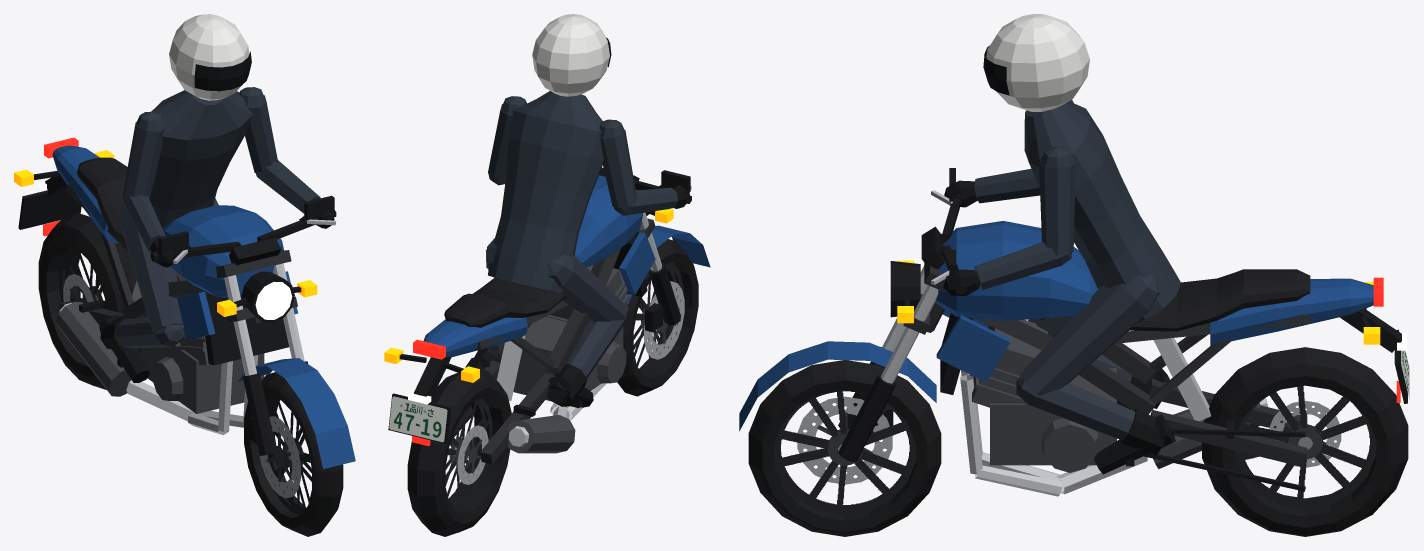
The model's file is motorbike.glb.
The picture shows the model from 3 angles, left to right: view 1: azimuth 30°, elevation 25°; view 2: azimuth 150°, elevation 25°; view 3: azimuth 270°, elevation 25°; orthographic projection. The views are drawn at different scales.
Parts seen in each view (by area): view 1: Body, Steer, Torso, WheelFront, WheelRear, Head, ThighR, ShinR, UpperArmR, UpperArmL, ForearmL, ForearmR; view 2: Body, Torso, WheelRear, WheelFront, Head, Steer, ShinR, ThighR, UpperArmR, UpperArmL, ForearmR, ShinL; view 3: Body, WheelRear, WheelFront, Torso, Steer, Head, ThighL, ShinL, UpperArmL, ForearmL, ForearmR.
Boxes of the visible parts, x1=… form: Body: x1=14, y1=137, x2=297, y2=435; Steer: x1=150, y1=195, x2=355, y2=469; Torso: x1=149, y1=90, x2=252, y2=228; WheelFront: x1=244, y1=372, x2=343, y2=536; WheelRear: x1=38, y1=213, x2=147, y2=389; Head: x1=169, y1=14, x2=251, y2=100; ThighR: x1=120, y1=205, x2=183, y2=332; ShinR: x1=99, y1=315, x2=184, y2=382; UpperArmR: x1=122, y1=111, x2=165, y2=199; UpperArmL: x1=239, y1=87, x2=277, y2=173; ForearmL: x1=256, y1=160, x2=334, y2=228; ForearmR: x1=123, y1=195, x2=175, y2=267; Body: x1=384, y1=175, x2=655, y2=464; Torso: x1=488, y1=91, x2=603, y2=292; WheelRear: x1=407, y1=367, x2=511, y2=536; WheelFront: x1=617, y1=239, x2=698, y2=396; Head: x1=532, y1=14, x2=611, y2=96; Steer: x1=599, y1=167, x2=710, y2=332; ShinR: x1=546, y1=308, x2=626, y2=407; ThighR: x1=548, y1=254, x2=625, y2=322; UpperArmR: x1=599, y1=119, x2=636, y2=208; UpperArmL: x1=488, y1=96, x2=526, y2=179; ForearmR: x1=614, y1=185, x2=689, y2=215; ShinL: x1=465, y1=324, x2=531, y2=369; Body: x1=926, y1=220, x2=1409, y2=496; WheelRear: x1=1202, y1=347, x2=1408, y2=536; WheelFront: x1=748, y1=360, x2=941, y2=536; Torso: x1=1024, y1=101, x2=1180, y2=321; Steer: x1=739, y1=168, x2=966, y2=462; Head: x1=983, y1=14, x2=1089, y2=111; ThighL: x1=1020, y1=275, x2=1160, y2=396; ShinL: x1=1016, y1=376, x2=1175, y2=474; UpperArmL: x1=1039, y1=146, x2=1075, y2=255; ForearmL: x1=943, y1=242, x2=1071, y2=295; ForearmR: x1=944, y1=168, x2=1040, y2=207.
Size of the model in its own units: 0.7235 by 1.72 by 2.01.
Materials: 18 (2 with a texture image).
